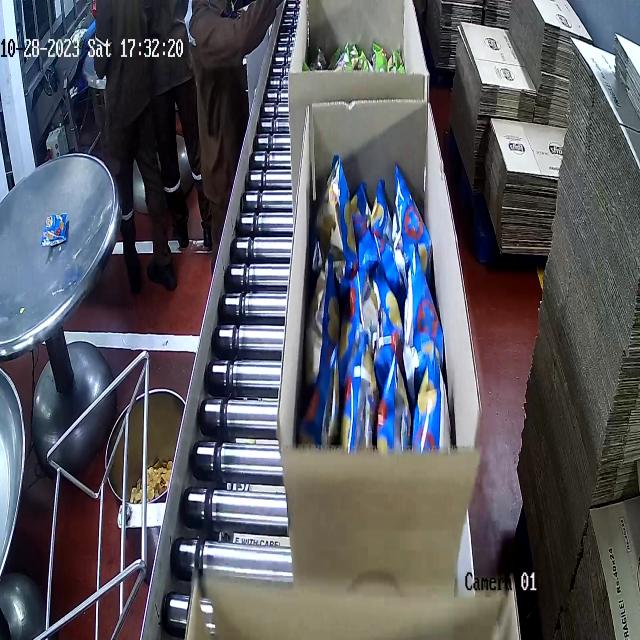PAPRIKA: (307, 159, 446, 447)
